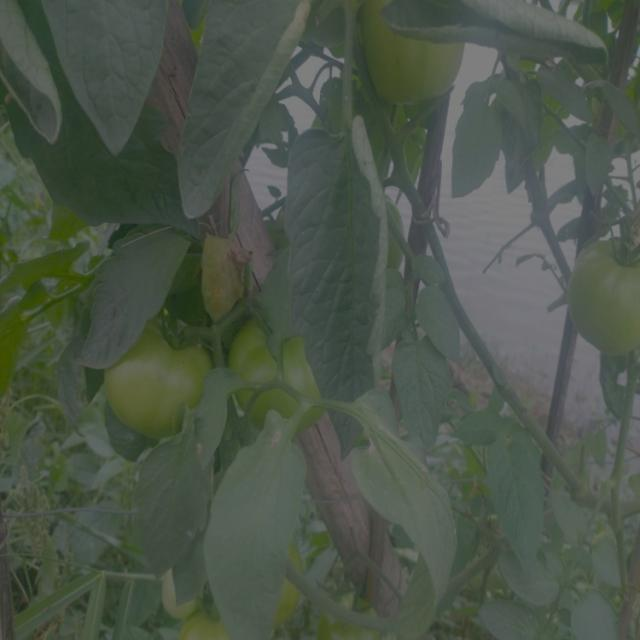tomato: (99, 302, 214, 433), (360, 1, 466, 109), (231, 306, 332, 418), (566, 222, 640, 357), (260, 554, 312, 631), (332, 587, 381, 638), (181, 605, 229, 639)
